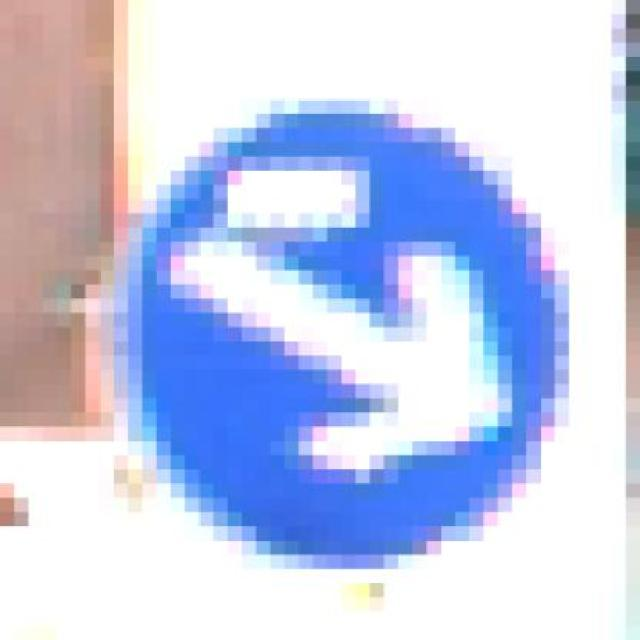Keep-Right: (85, 71, 583, 583)
